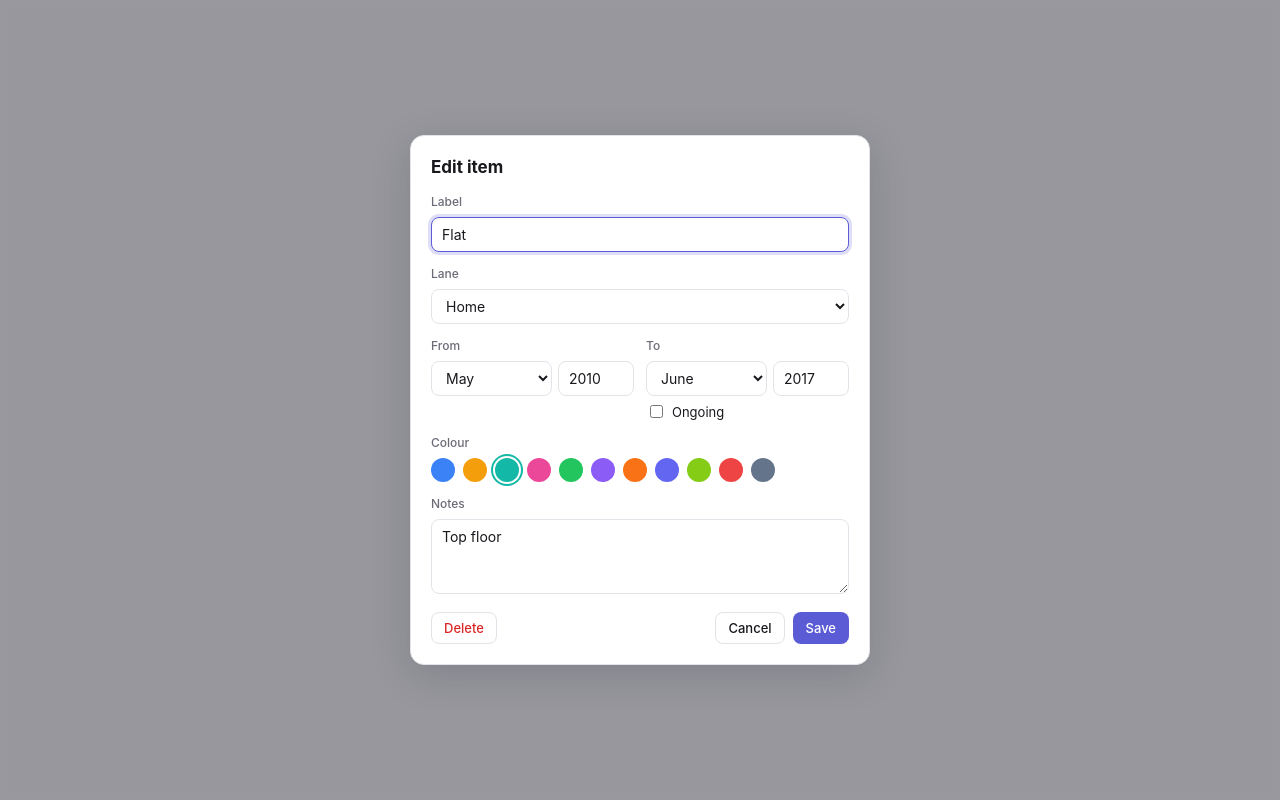
Scenario: ItemDialog › only applies a year once all four digits are typed, and restores it on blur
Replace the text in the number field named "Year" below "From" with "201" at coordinates (596, 379), box [558,361,634,396]
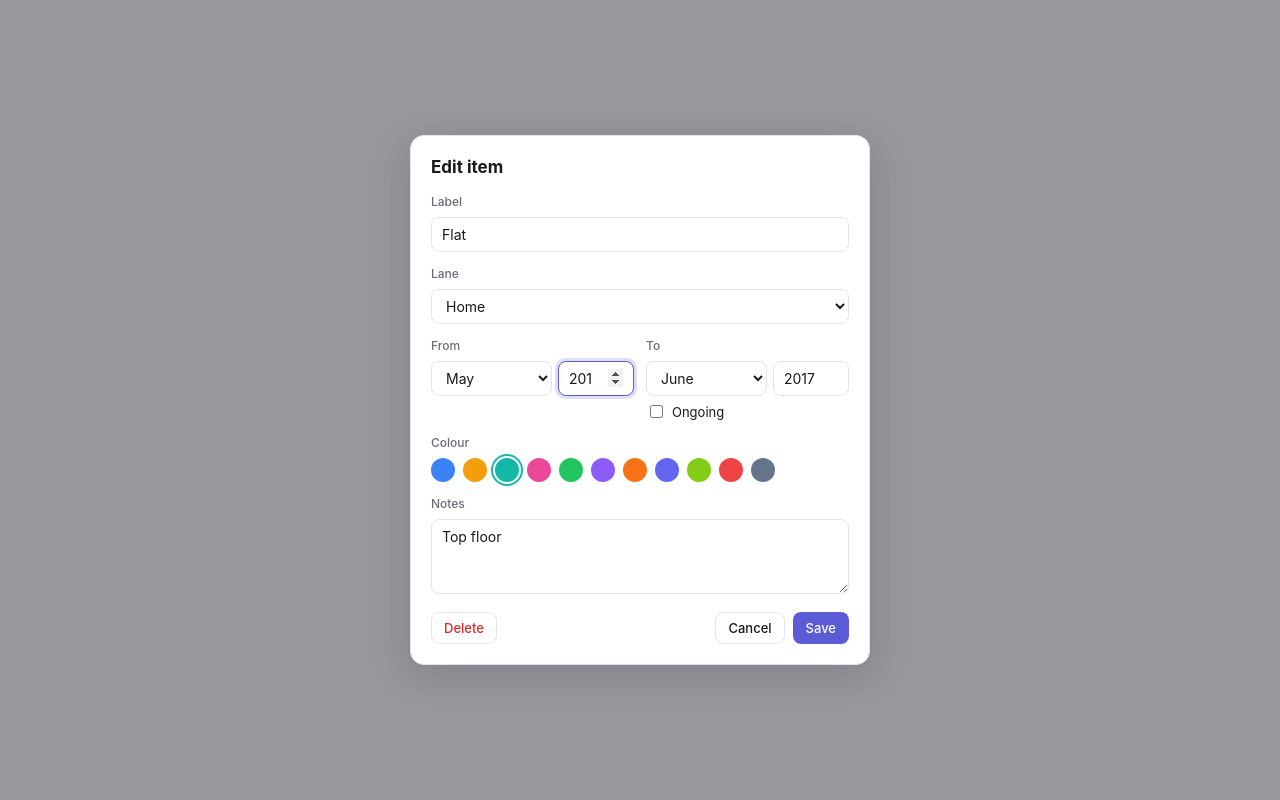
Press Tab
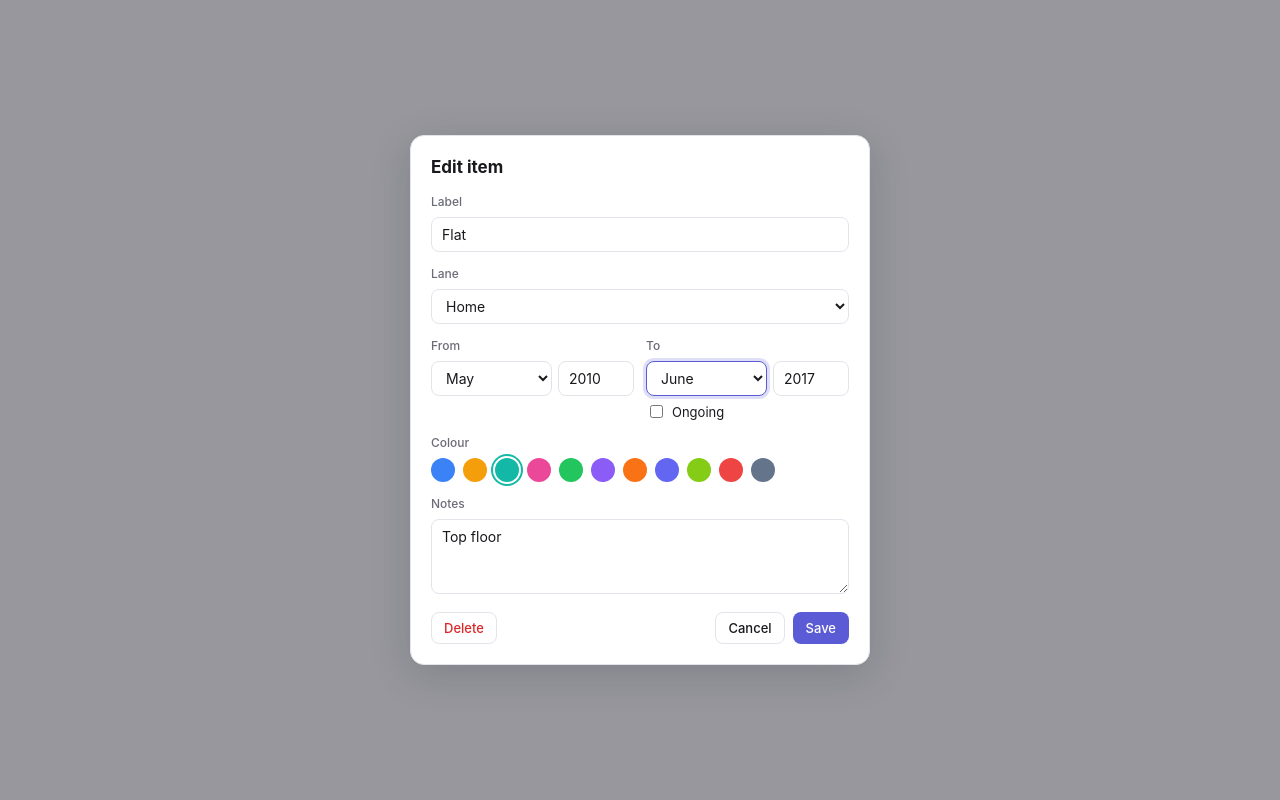
Now the number field named "Year" below "From" holds "2010", box [558,361,634,396]
